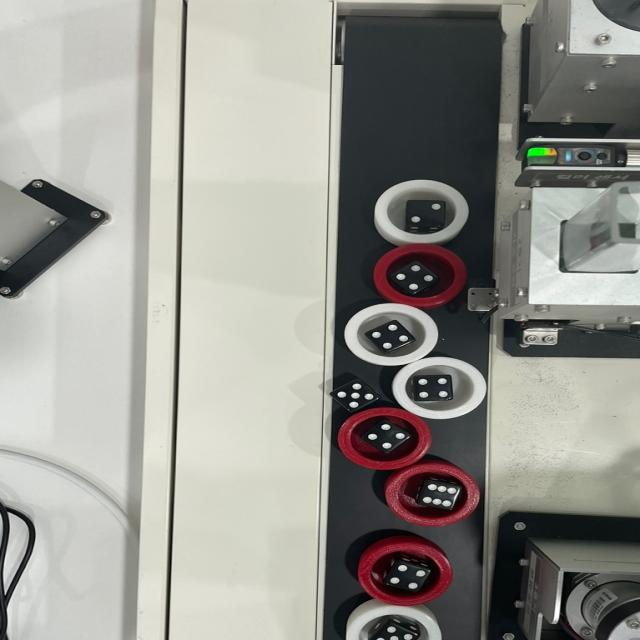DICE2: (408, 200, 449, 228)
DICE4: (366, 422, 414, 452), (369, 319, 412, 350), (396, 264, 437, 291), (388, 564, 428, 591), (418, 375, 455, 401)
DICE5: (336, 381, 377, 408), (371, 625, 418, 640)
DICE6: (418, 482, 459, 508)
RedChip: (356, 540, 456, 604), (337, 406, 435, 471), (386, 463, 483, 528), (374, 242, 472, 304)
WhiteChip: (342, 301, 442, 369), (371, 178, 468, 245), (392, 356, 490, 418), (348, 606, 446, 640)
